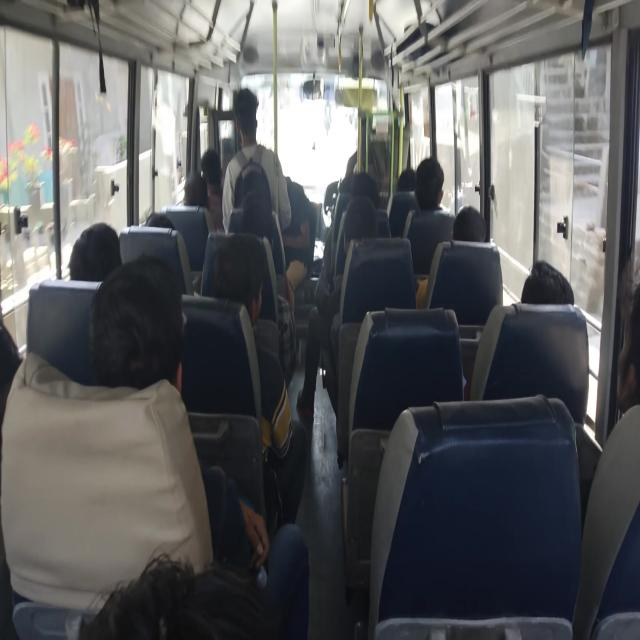person: (106, 557, 346, 640), (96, 258, 188, 413), (608, 301, 640, 499), (266, 151, 310, 273), (508, 268, 568, 354), (73, 212, 120, 285), (214, 231, 259, 301), (0, 302, 30, 402), (231, 87, 268, 158), (235, 193, 272, 239), (182, 163, 216, 210), (334, 201, 369, 246), (192, 147, 227, 185), (414, 159, 442, 206), (350, 177, 380, 212), (454, 211, 476, 252), (239, 176, 265, 208), (402, 154, 422, 195), (145, 208, 167, 237), (331, 174, 358, 191)
